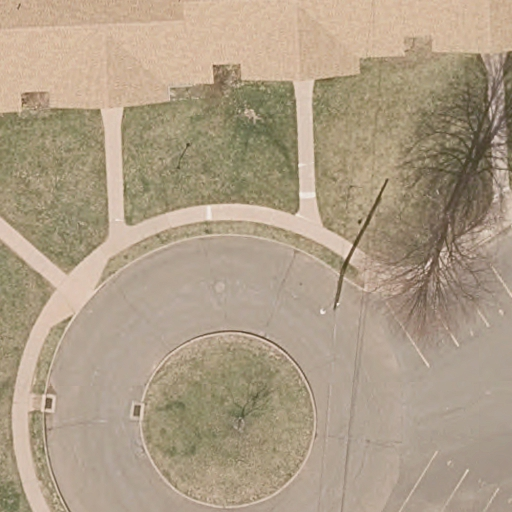DT: (317, 266, 353, 317)
